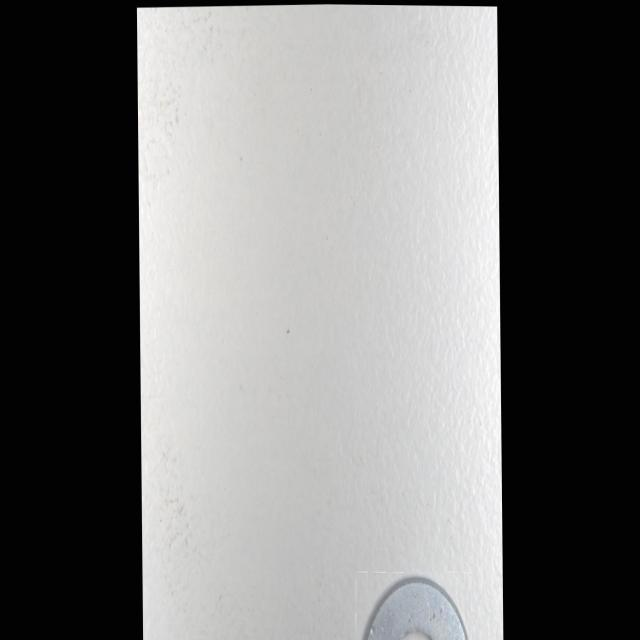washer: (360, 571, 468, 640)
